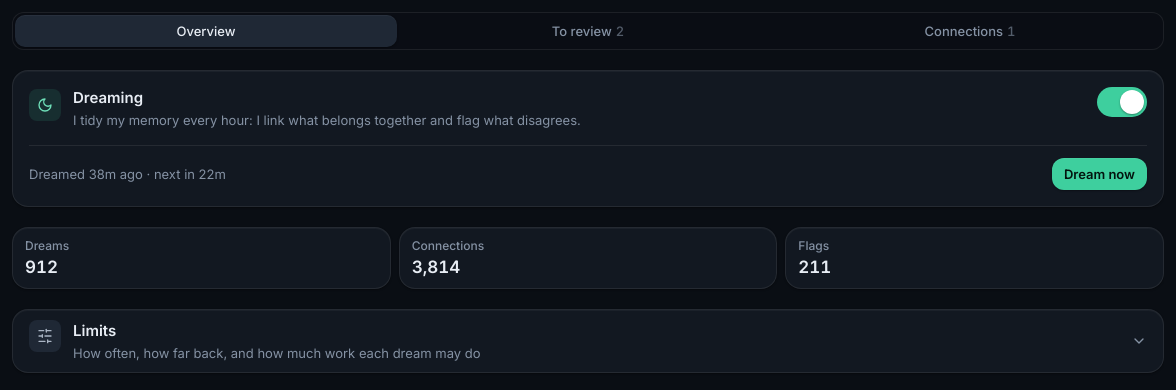
Test case: DreamsPanel › shows what each connection links, in words, each side opening its memory
The image size is (1176, 390).
Click the radio button labelled "Connections1": (970, 31) [779,15,1161,47]
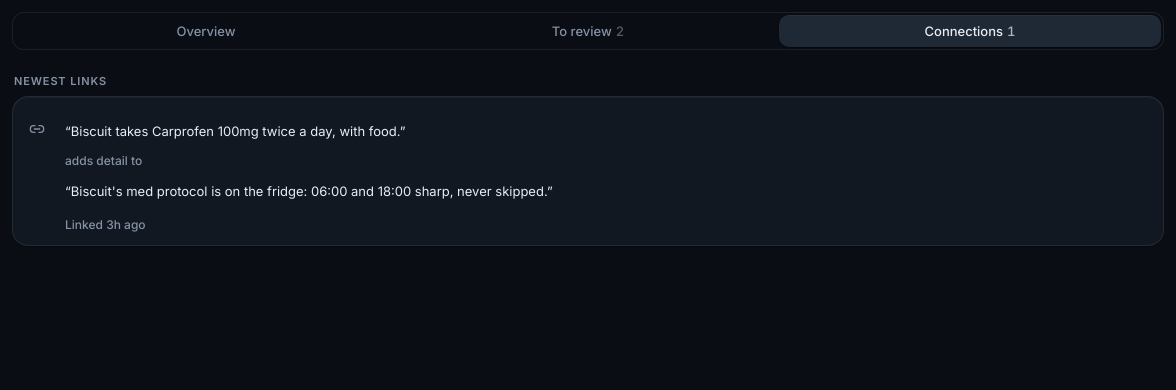
Now the text "adds detail to" is shown, box [65,153,142,168]
